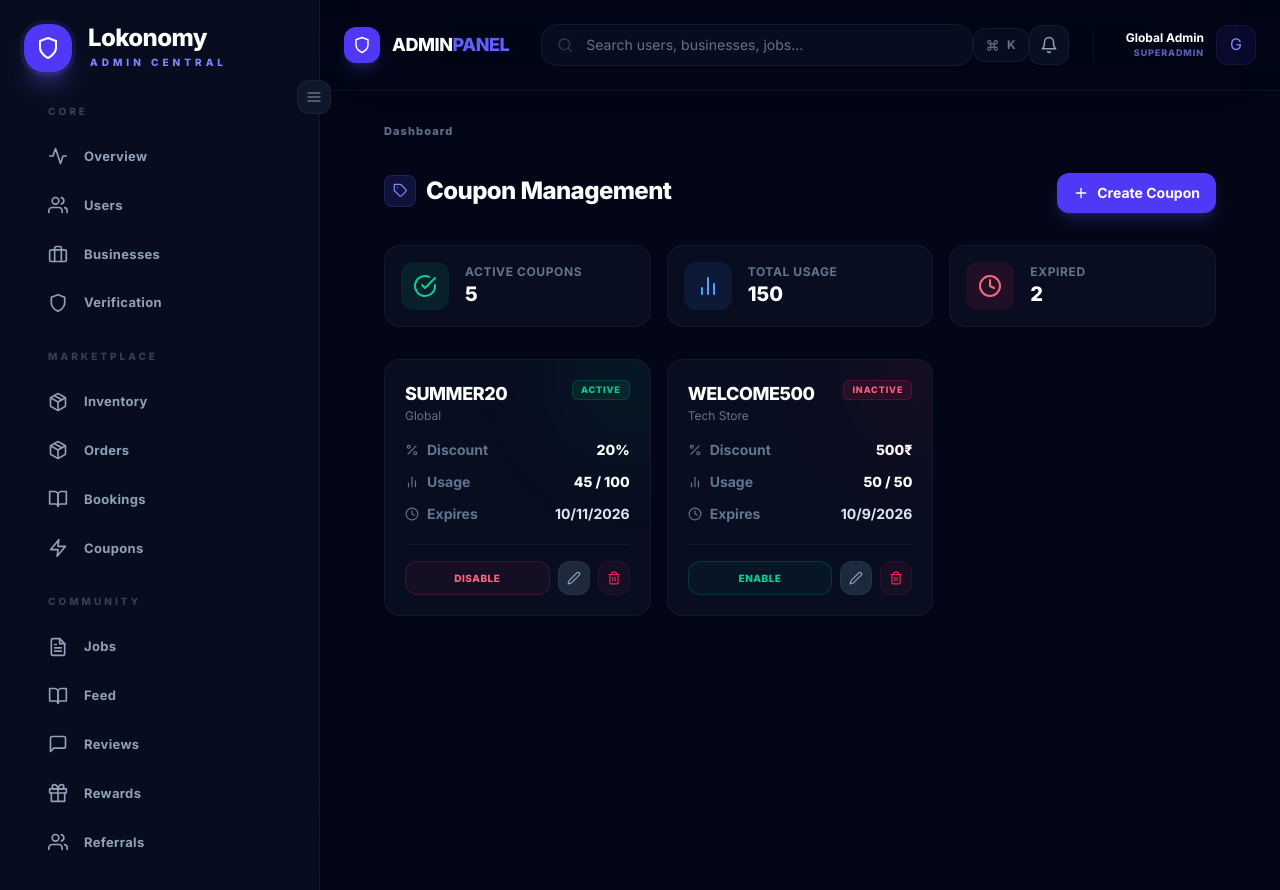
it: AdminCoupons Page › opens and closes create coupon modal
Check: the heading "SUMMER20" is shown, box [405,380,507,408]
Click the button "Create Coupon" at point(1137, 193), box [1057,173,1216,213]
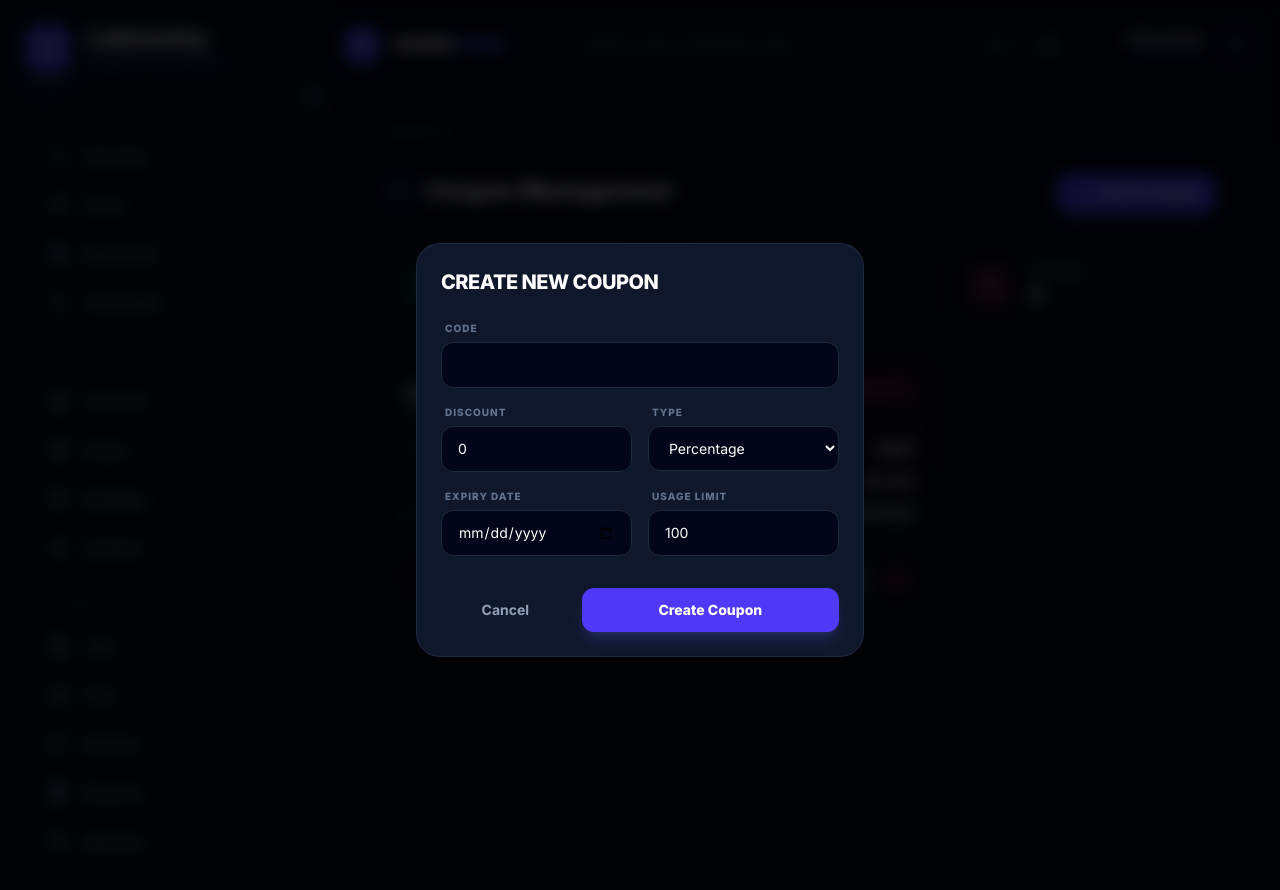
Check: the heading "Create New Coupon" is shown, box [441,270,658,294]
Click the button "Cancel" at point(505, 610), box [441,588,570,632]
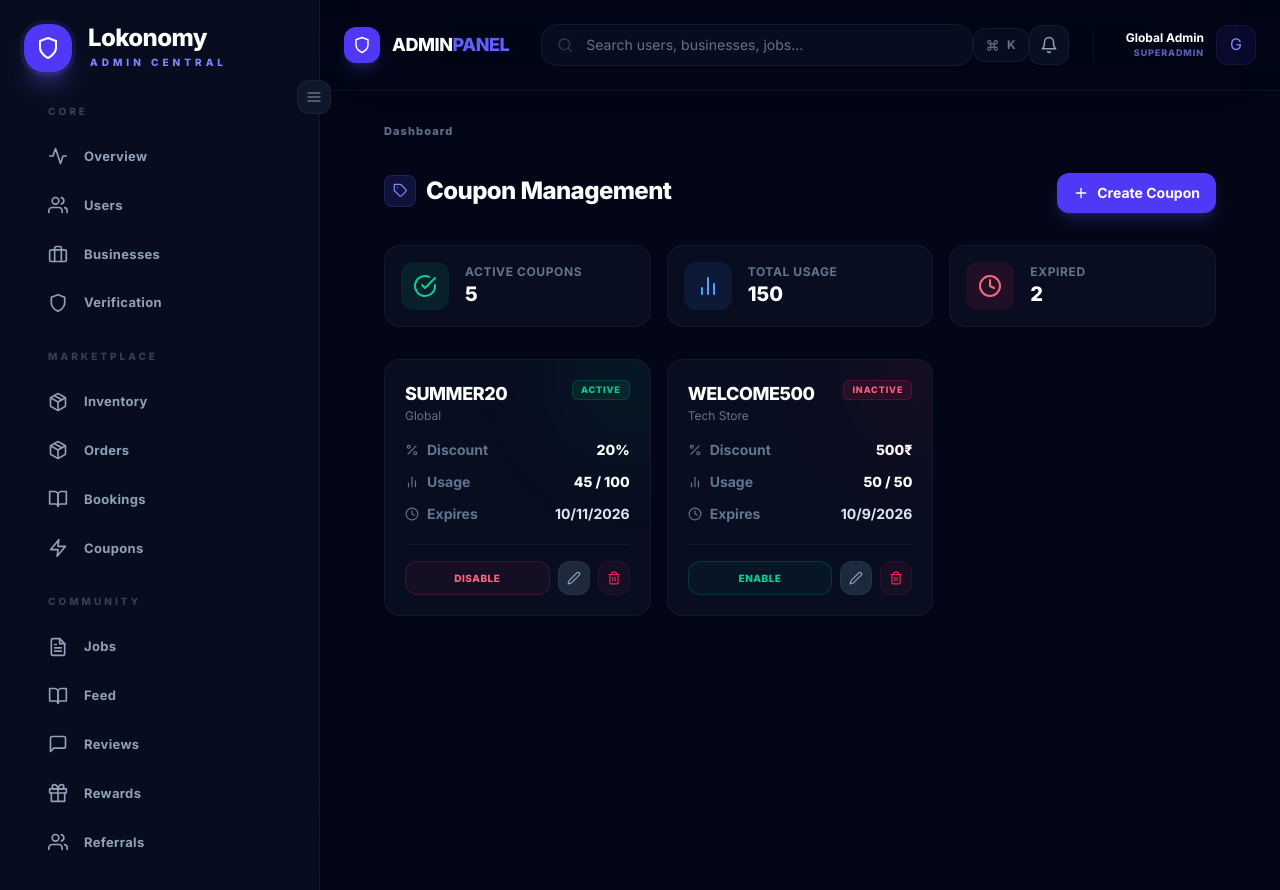
Check: the heading "Create New Coupon" is gone
